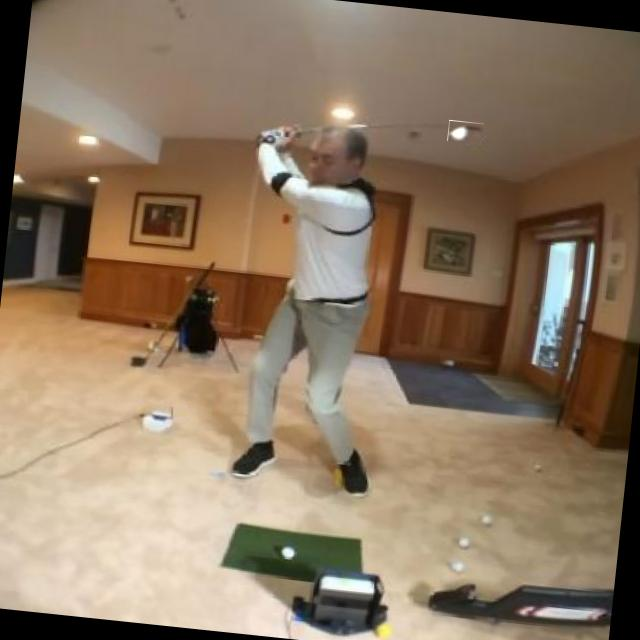club head: (446, 119, 484, 144)
